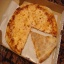pizza: (7, 5, 58, 49)
